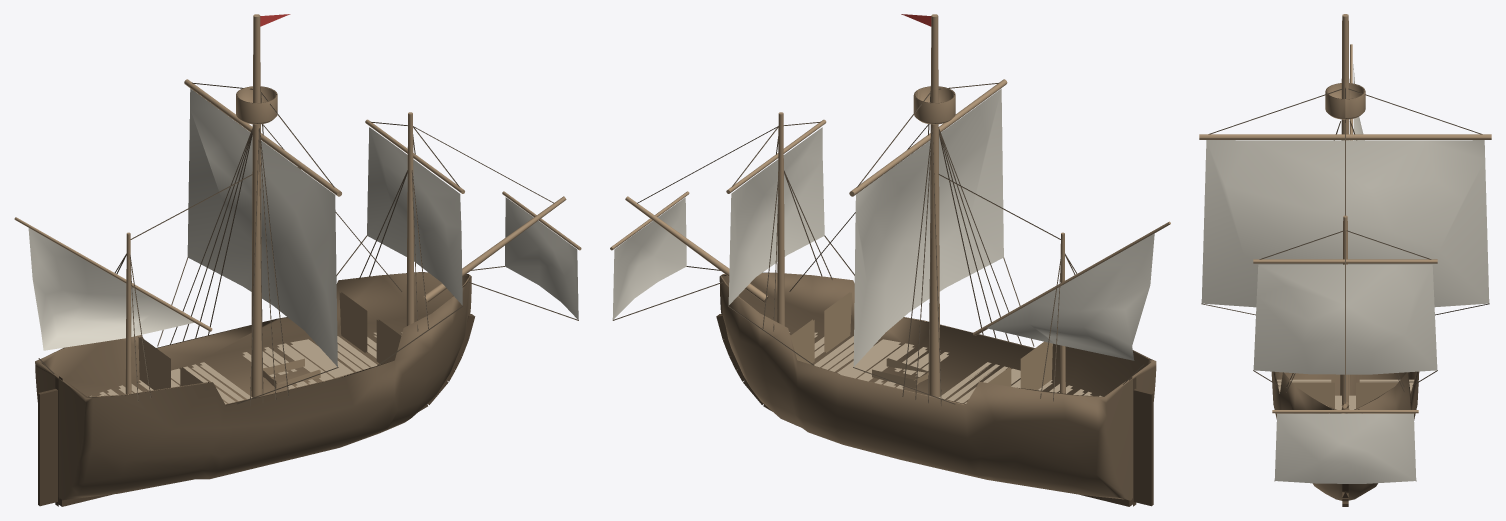
File: matthew-far.glb
3 views of the same model, side by side, from view 1: azimuth 30°, elevation 25°; view 2: azimuth 150°, elevation 25°; view 3: azimuth 270°, elevation 25° (orthographic). The views are drawn at different scales.
Parts seen in each view (by area): view 1: hull, canvas, rope, fittings, deck, Mainmast, Rudder, Foremast, Main top (crow's nest), Main yard, Bowsprit, Mizzenmast (+2 smaller); view 2: hull, canvas, rope, fittings, deck, Mainmast, Rudder, Foremast, Main top (crow's nest), Main yard, Bowsprit, trim (+1 smaller); view 3: canvas, hull, Main yard, rope, fittings, Main top (crow's nest), Fore yard, Mainmast, deck, Spritsail yard, Foremast.
Part boxes in pixels (bbox=[...]): hull: bbox=[35, 272, 471, 500]; canvas: bbox=[28, 88, 578, 366]; rope: bbox=[38, 82, 578, 406]; fittings: bbox=[138, 292, 401, 390]; deck: bbox=[89, 332, 402, 404]; Mainmast: bbox=[251, 14, 262, 397]; Rudder: bbox=[38, 389, 57, 506]; Foremast: bbox=[406, 112, 414, 325]; Main top (crow's nest): bbox=[236, 86, 277, 124]; Main yard: bbox=[184, 79, 341, 196]; Bowsprit: bbox=[423, 196, 566, 302]; Mizzenmast: bbox=[125, 232, 131, 394]; hull: bbox=[719, 272, 1156, 500]; canvas: bbox=[612, 88, 1154, 366]; rope: bbox=[613, 82, 1143, 406]; fittings: bbox=[790, 292, 1052, 390]; deck: bbox=[789, 332, 1101, 403]; Mainmast: bbox=[929, 14, 940, 397]; Rudder: bbox=[1133, 389, 1153, 506]; Foremast: bbox=[777, 112, 784, 326]; Main top (crow's nest): bbox=[913, 86, 955, 124]; Main yard: bbox=[849, 79, 1007, 196]; Bowsprit: bbox=[625, 196, 768, 302]; trim: bbox=[716, 314, 1136, 506]; canvas: bbox=[1201, 64, 1489, 483]; hull: bbox=[1271, 371, 1419, 500]; Main yard: bbox=[1199, 134, 1491, 139]; rope: bbox=[1201, 87, 1489, 481]; fittings: bbox=[1292, 374, 1397, 408]; Main top (crow's nest): bbox=[1325, 83, 1365, 119]; Fore yard: bbox=[1253, 259, 1437, 263]; Mainmast: bbox=[1340, 14, 1350, 395]; deck: bbox=[1277, 379, 1414, 409]; Spritsail yard: bbox=[1272, 410, 1418, 413]; Foremast: bbox=[1341, 215, 1349, 409].
Bounding box in the file's own units: 25.67 × 19.79 × 12.4.
